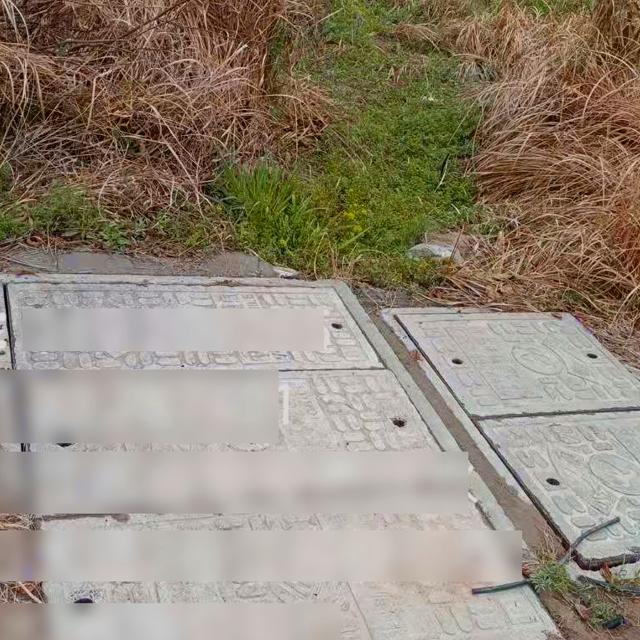good: (0, 270, 569, 640), (384, 305, 640, 583)
